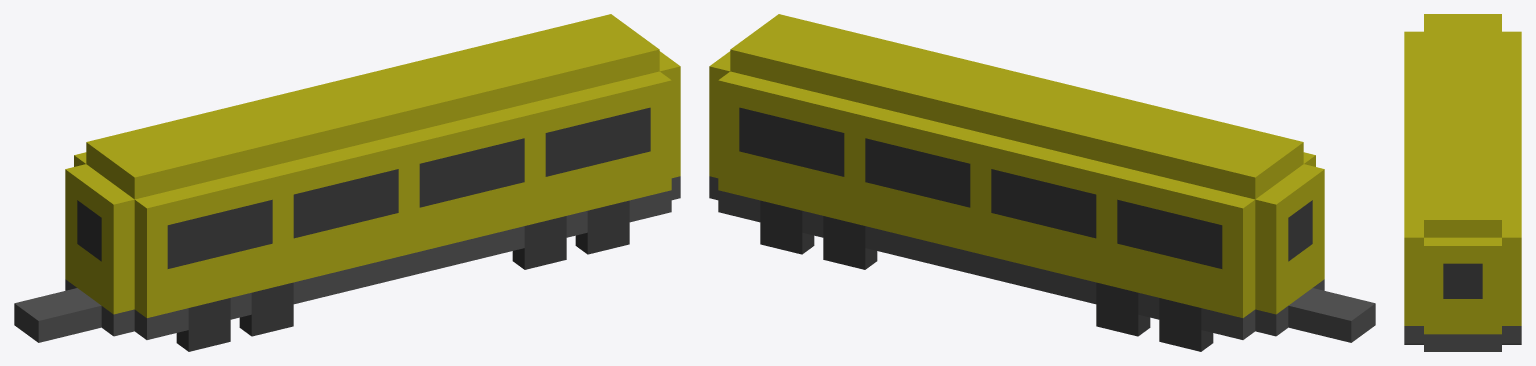
File: train-trailer-v4-yellow.gltf
3 renders of one model, left to right at view 1: azimuth 30°, elevation 25°; view 2: azimuth 150°, elevation 25°; view 3: azimuth 270°, elevation 25°, orthographic. The views are drawn at different scales.
Parts seen in each view (by area): view 1: model, wheels; view 2: model, wheels; view 3: model.
Part boxes in pixels (left/top/right/bottom): model: left=14, top=14, right=680, bottom=342; wheels: left=176, top=200, right=629, bottom=351; model: left=709, top=14, right=1375, bottom=342; wheels: left=760, top=200, right=1213, bottom=351; model: left=1404, top=14, right=1521, bottom=351.
Size of the model in its own units: 3 by 0.8 by 0.6.
Materials: 2 (2 with a texture image).
